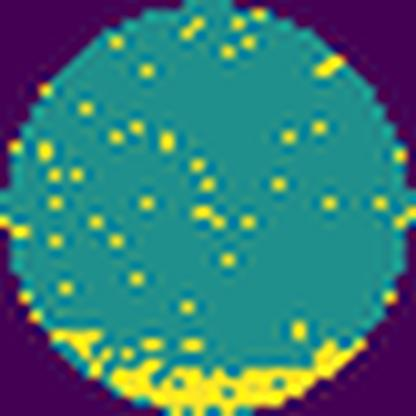Edge-Loc: (45, 326, 368, 416)
